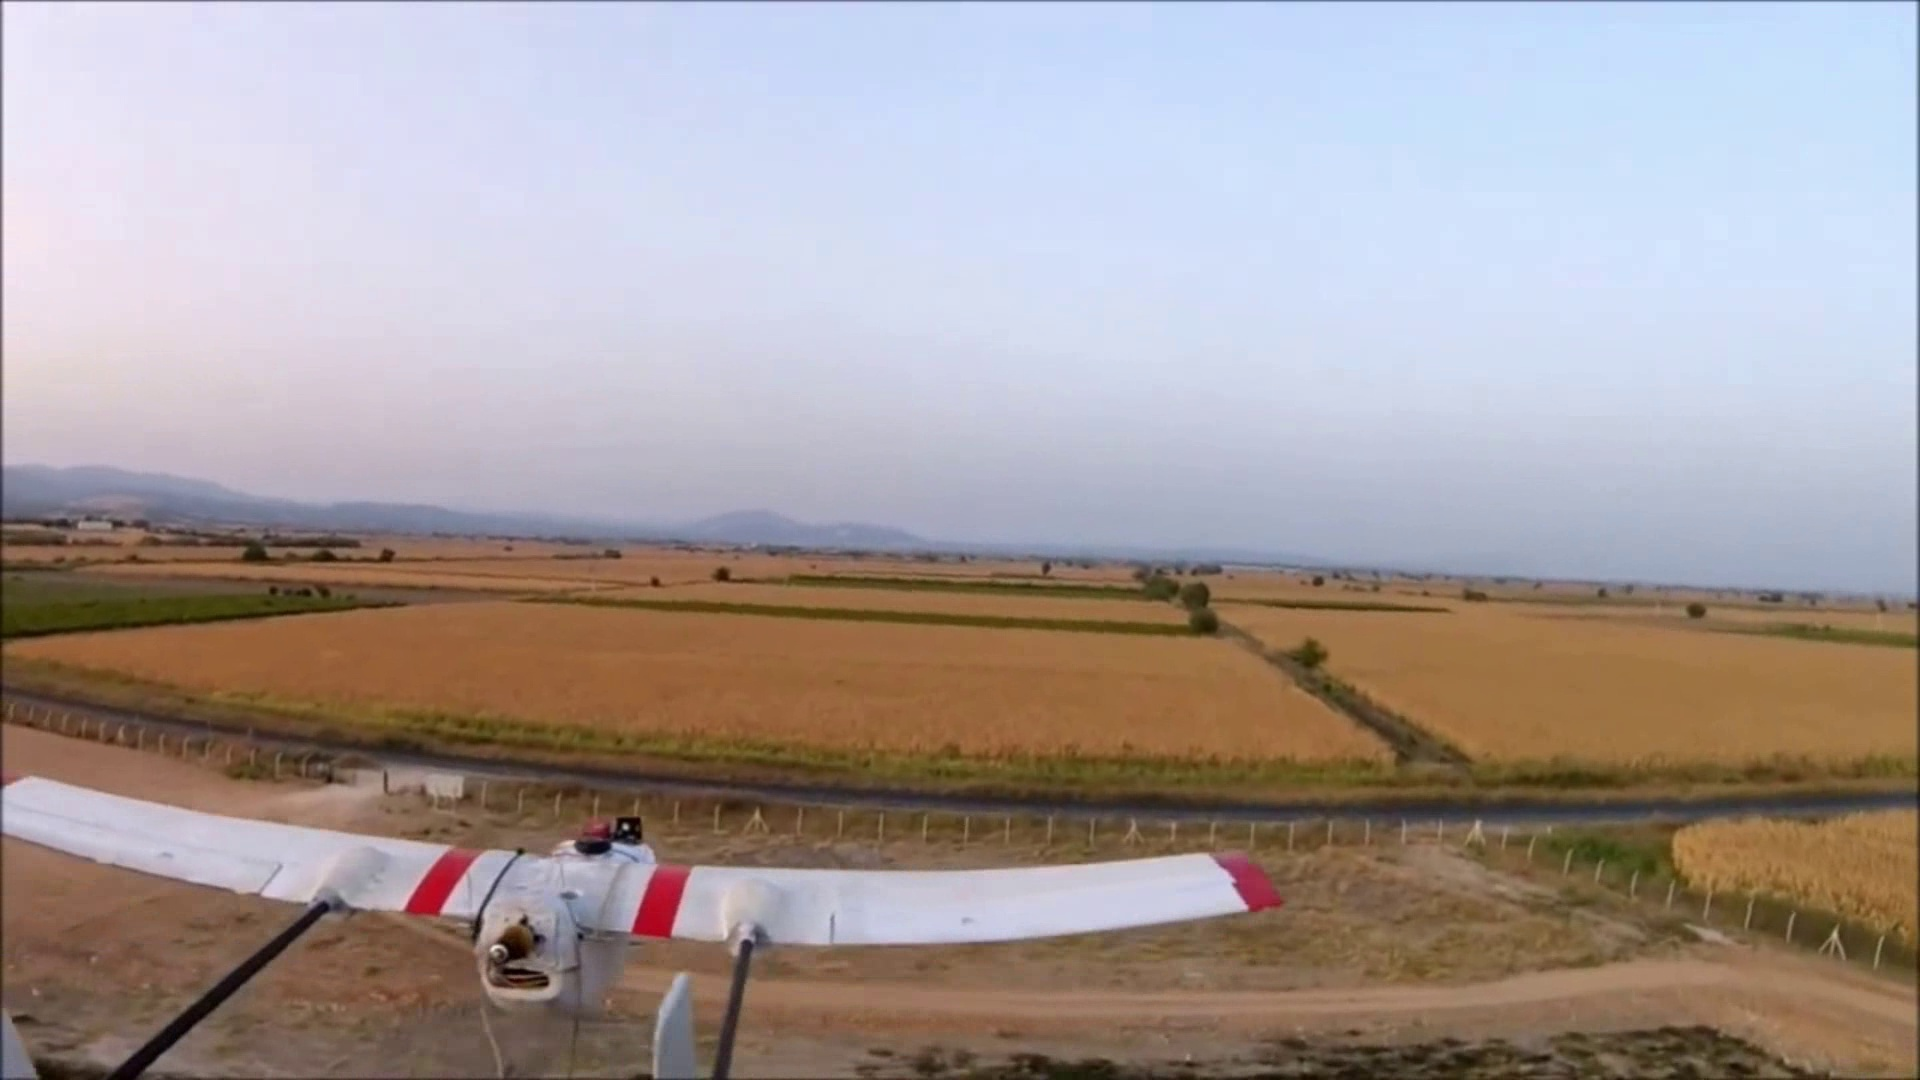airplane: (7, 770, 1284, 1018)
